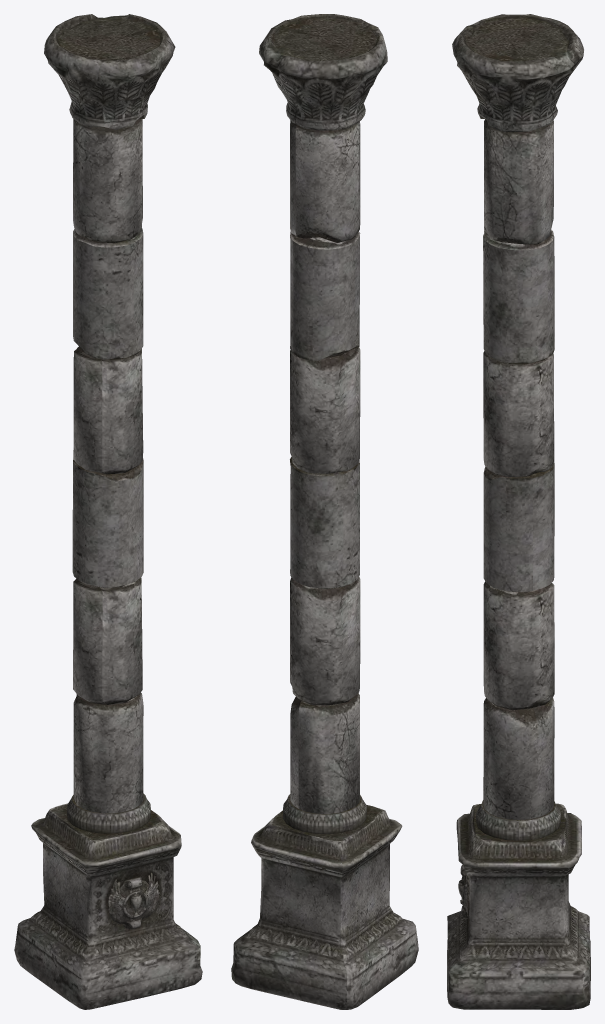
Rendered from eso_ss1_column1-transformed.glb.
3 views of the same model, side by side, from view 1: azimuth 30°, elevation 25°; view 2: azimuth 150°, elevation 25°; view 3: azimuth 270°, elevation 25° (orthographic).
Parts seen in each view (by area): view 1: default; view 2: default; view 3: default.
Part boxes in pixels (x1,y1,x2,y2): default: (14, 14, 202, 1009); default: (231, 14, 418, 1009); default: (447, 14, 590, 1009).
Bounding box in the file's own units: 3.09 × 22.2 × 3.07.
1 material, 1 textured.
